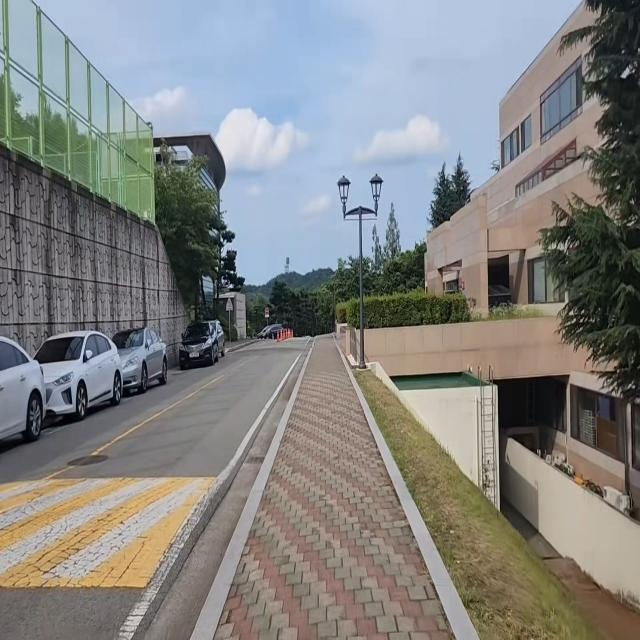obstacle: (36, 320, 128, 434), (0, 326, 48, 453), (108, 320, 174, 403), (179, 317, 235, 376)
road: (0, 336, 310, 640)
sidewalk: (195, 330, 470, 640)
